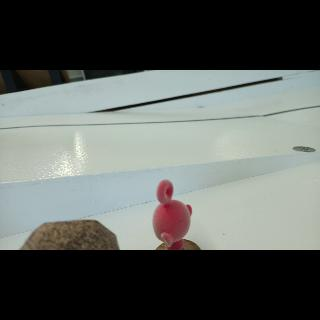teletubby: (153, 180, 192, 250)
